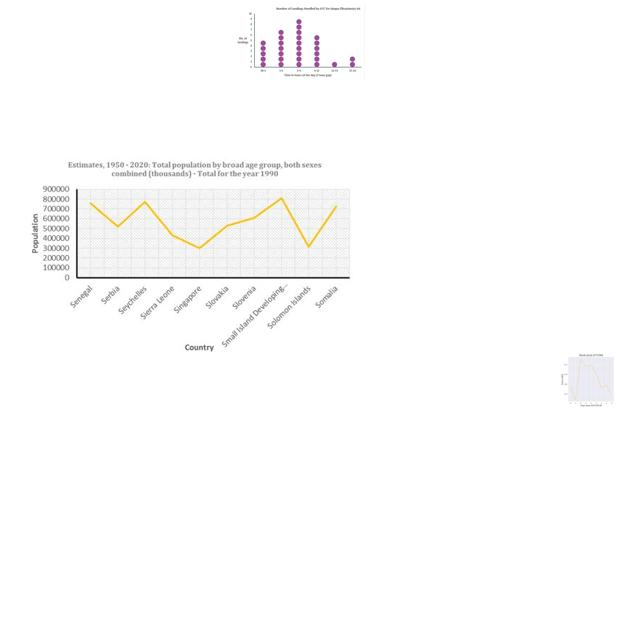Graph: (20, 157, 354, 354), (234, 4, 365, 80), (548, 350, 632, 408)
